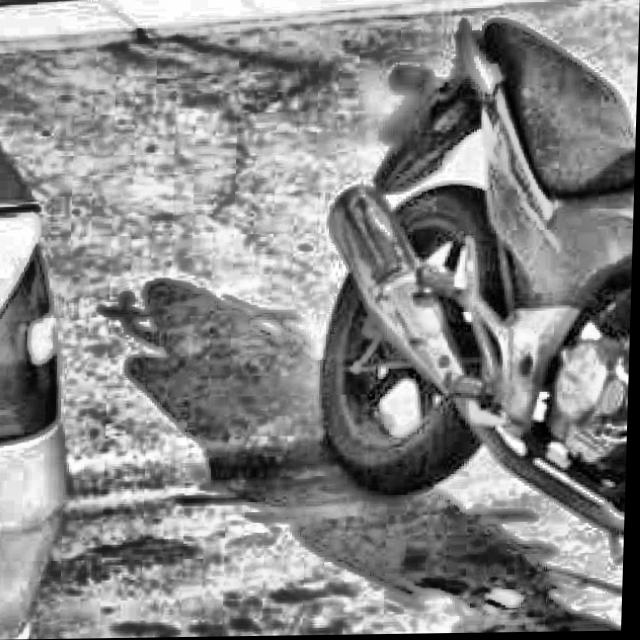motorcycle: (311, 9, 640, 555)
